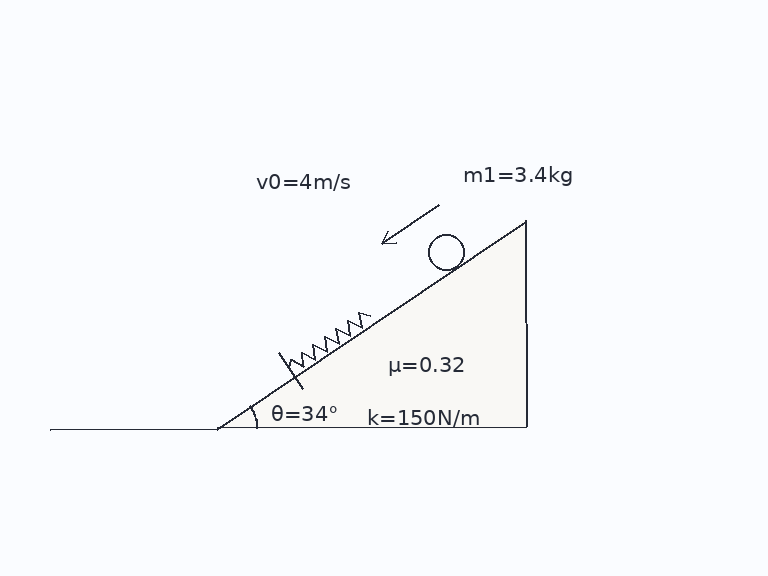ball: (426, 232, 466, 272)
ramp: (215, 218, 527, 430)
spring: (287, 311, 371, 371)
